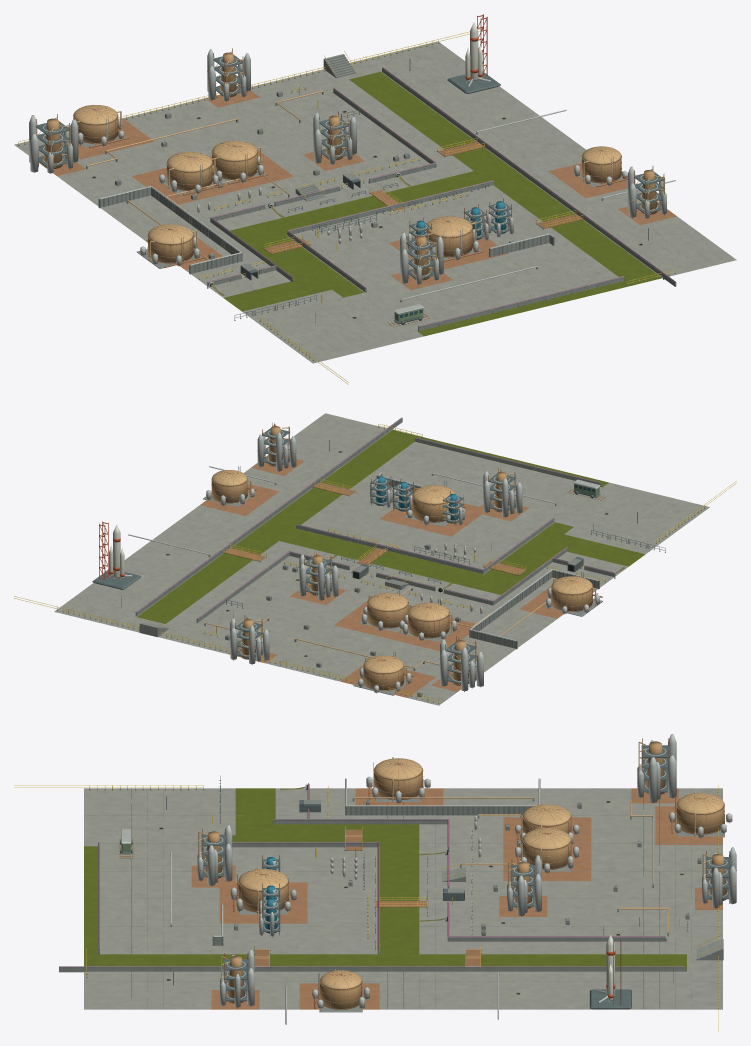
The model's file is terrain-props.glb.
3 views of the same model, one above another, from view 1: azimuth 30°, elevation 25°; view 2: azimuth 150°, elevation 25°; view 3: azimuth 270°, elevation 25° (orthographic). The views are drawn at different scales.
Parts seen in each view (by area): view 1: hm10-opaque-chunk-4-2, hm10-opaque-chunk-2-0, hm10-opaque-chunk-0-0, hm10-opaque-chunk-2-4, hm10-opaque-chunk-0-2, hm10-opaque-chunk-1-3, hm10-opaque-chunk-1-1, hm10-opaque-chunk-4-0, hm10-opaque-chunk-2-2, hm10-opaque-chunk-4-3, hm10-opaque-chunk-2-1, hm10-opaque-chunk-1-4 (+13 smaller); view 2: hm10-opaque-chunk-4-2, hm10-opaque-chunk-0-0, hm10-opaque-chunk-0-2, hm10-opaque-chunk-1-3, hm10-opaque-chunk-2-3, hm10-opaque-chunk-4-0, hm10-opaque-chunk-2-0, hm10-opaque-chunk-2-1, hm10-opaque-chunk-1-1, hm10-opaque-chunk-2-2, hm10-opaque-chunk-4-3, hm10-opaque-chunk-3-1 (+13 smaller); view 3: hm10-opaque-chunk-4-2, hm10-opaque-chunk-0-2, hm10-opaque-chunk-0-0, hm10-opaque-chunk-2-0, hm10-opaque-chunk-1-1, hm10-opaque-chunk-2-4, hm10-opaque-chunk-3-1, hm10-opaque-chunk-2-1, hm10-opaque-chunk-2-3, hm10-opaque-chunk-2-2, hm10-opaque-chunk-0-4, hm10-opaque-chunk-3-3 (+13 smaller).
Boxes of the visible parts, x1,y1,x2,y2 form: hm10-opaque-chunk-4-2: (382, 67, 676, 286); hm10-opaque-chunk-2-0: (19, 27, 486, 144); hm10-opaque-chunk-0-0: (14, 105, 158, 188); hm10-opaque-chunk-2-4: (401, 236, 624, 330); hm10-opaque-chunk-0-2: (127, 186, 293, 281); hm10-opaque-chunk-1-3: (278, 230, 437, 298); hm10-opaque-chunk-1-1: (155, 141, 299, 211); hm10-opaque-chunk-4-0: (354, 14, 500, 105); hm10-opaque-chunk-2-2: (288, 170, 493, 234); hm10-opaque-chunk-4-3: (533, 150, 676, 236); hm10-opaque-chunk-2-1: (253, 111, 387, 187); hm10-opaque-chunk-1-4: (338, 242, 482, 342); hm10-opaque-chunk-4-2: (135, 417, 402, 616); hm10-opaque-chunk-0-0: (353, 636, 492, 705); hm10-opaque-chunk-0-2: (470, 546, 602, 636); hm10-opaque-chunk-1-3: (448, 472, 578, 573); hm10-opaque-chunk-2-3: (371, 475, 497, 548); hm10-opaque-chunk-4-0: (54, 521, 184, 630); hm10-opaque-chunk-2-0: (14, 596, 438, 701); hm10-opaque-chunk-2-1: (263, 551, 392, 628); hm10-opaque-chunk-1-1: (339, 587, 471, 646); hm10-opaque-chunk-2-2: (296, 524, 482, 589); hm10-opaque-chunk-4-3: (209, 422, 347, 511); hm10-opaque-chunk-3-1: (185, 548, 309, 622); hm10-opaque-chunk-4-2: (59, 965, 685, 1012); hm10-opaque-chunk-0-2: (273, 757, 536, 832); hm10-opaque-chunk-0-0: (595, 734, 732, 837); hm10-opaque-chunk-2-0: (595, 785, 736, 1031); hm10-opaque-chunk-1-1: (461, 804, 595, 876); hm10-opaque-chunk-2-4: (84, 837, 215, 951); hm10-opaque-chunk-3-1: (448, 918, 665, 965); hm10-opaque-chunk-2-1: (467, 855, 595, 920); hm10-opaque-chunk-2-3: (211, 838, 339, 920); hm10-opaque-chunk-2-2: (339, 842, 467, 951); hm10-opaque-chunk-0-4: (14, 785, 211, 832); hm10-opaque-chunk-3-3: (211, 890, 339, 965).
Size of the model in its own units: 65.72 by 8.3 by 78.55.
1 material, 1 textured.
